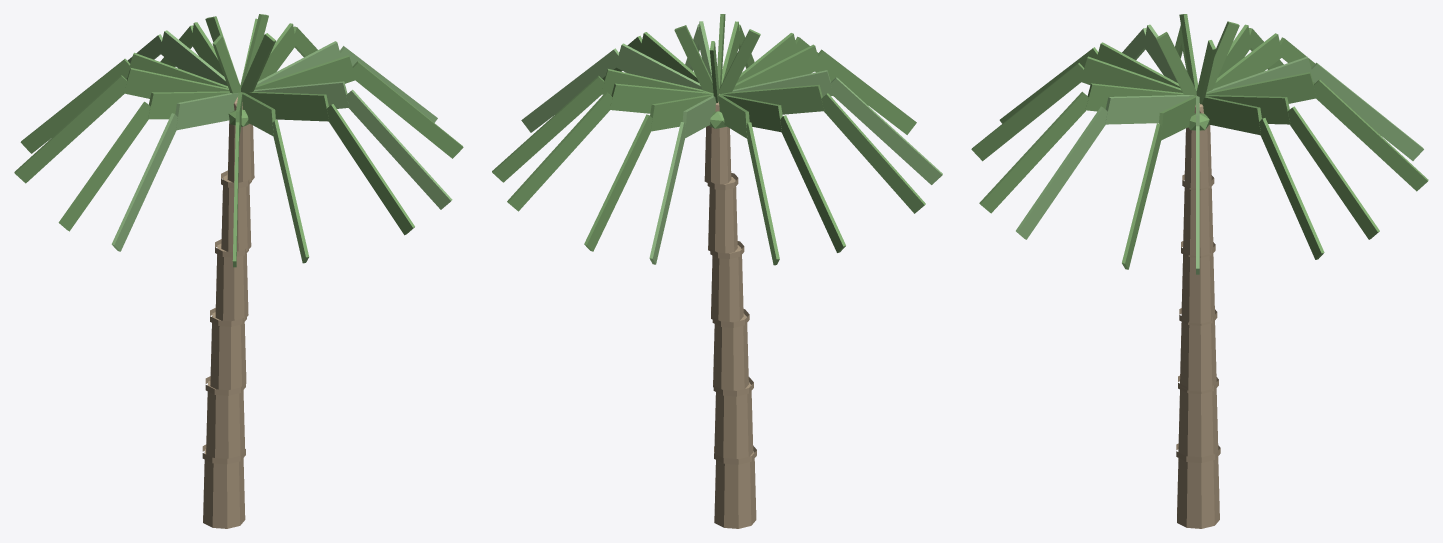
Rendered from palm_tree.glb.
3 views of the same model, side by side, from view 1: azimuth 30°, elevation 25°; view 2: azimuth 150°, elevation 25°; view 3: azimuth 270°, elevation 25° (orthographic). The views are drawn at different scales.
Visible parts, largest first — view 1: palm_tree; view 2: palm_tree; view 3: palm_tree.
Part boxes in pixels (x1,y1,x2,y2): palm_tree: (14,14,463,528); palm_tree: (492,14,942,528); palm_tree: (971,14,1428,528).
Bounding box in the file's own units: 3.64 × 4.36 × 3.6.
